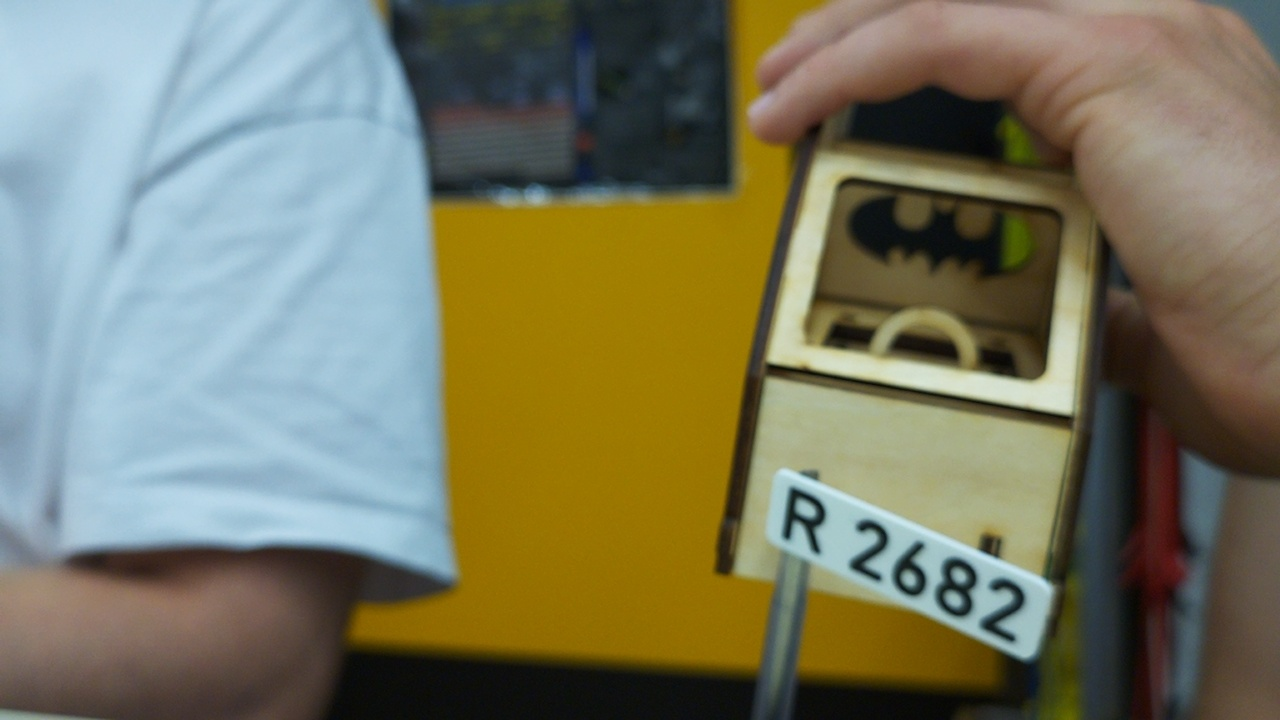license_plate: (763, 467, 1059, 665)
